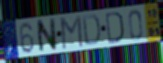0: (128, 8, 145, 42)
6: (19, 21, 36, 56)
D: (104, 11, 125, 45), (81, 13, 102, 47)
M: (60, 14, 84, 51)
N: (35, 17, 59, 54)
